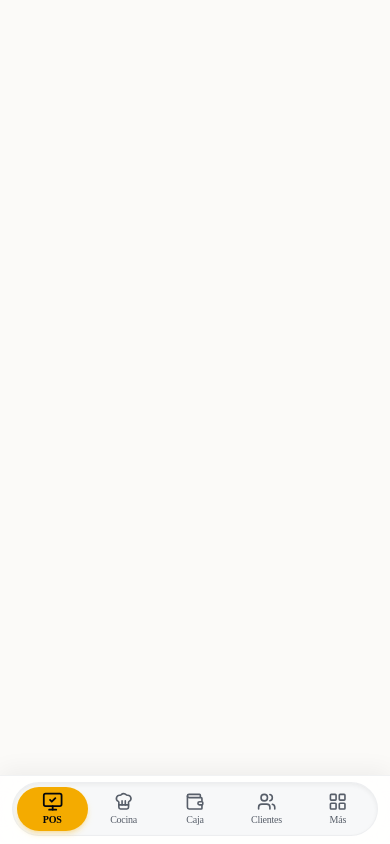
Test: BottomNav - Navegación Móvil Estilo iOS con Píldoras › abre el drawer de módulos al hacer clic en Más
The image size is (390, 844).
Click the button with aria-label "Más módulos": click(338, 809) top-left (302, 787), bottom-right (374, 831)
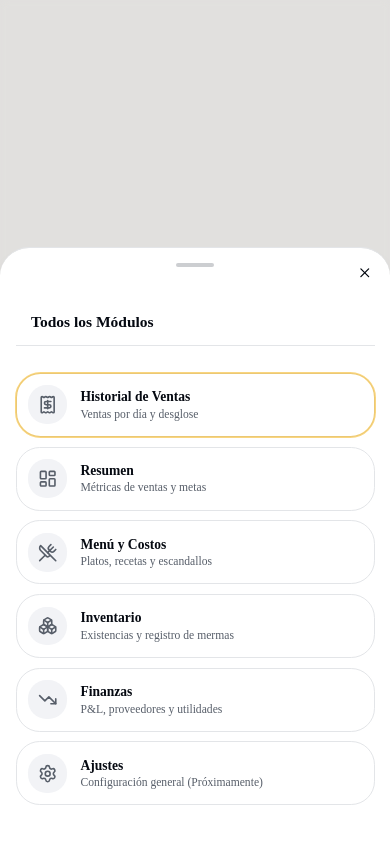
Now the heading "Todos los Módulos" is shown, box top-left (31, 313), bottom-right (154, 330)
Now the text "Historial de Ventas" is shown, box top-left (80, 389), bottom-right (190, 404)
Now the text "Menú y Costos" is shown, box top-left (80, 537), bottom-right (166, 552)
